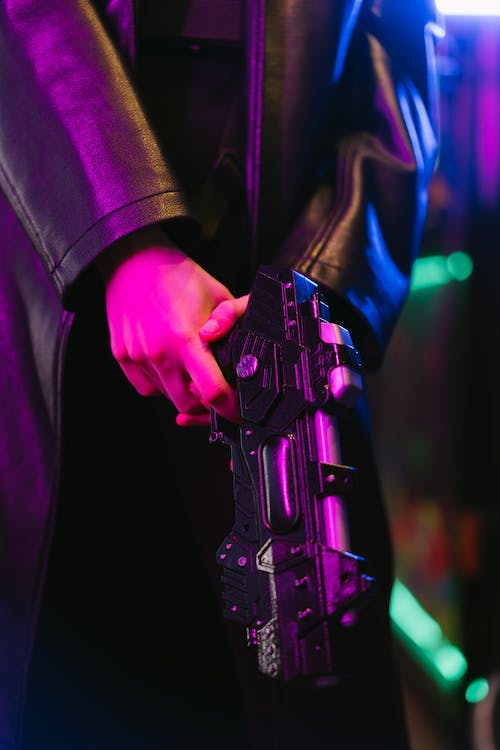gun: (206, 253, 401, 704)
